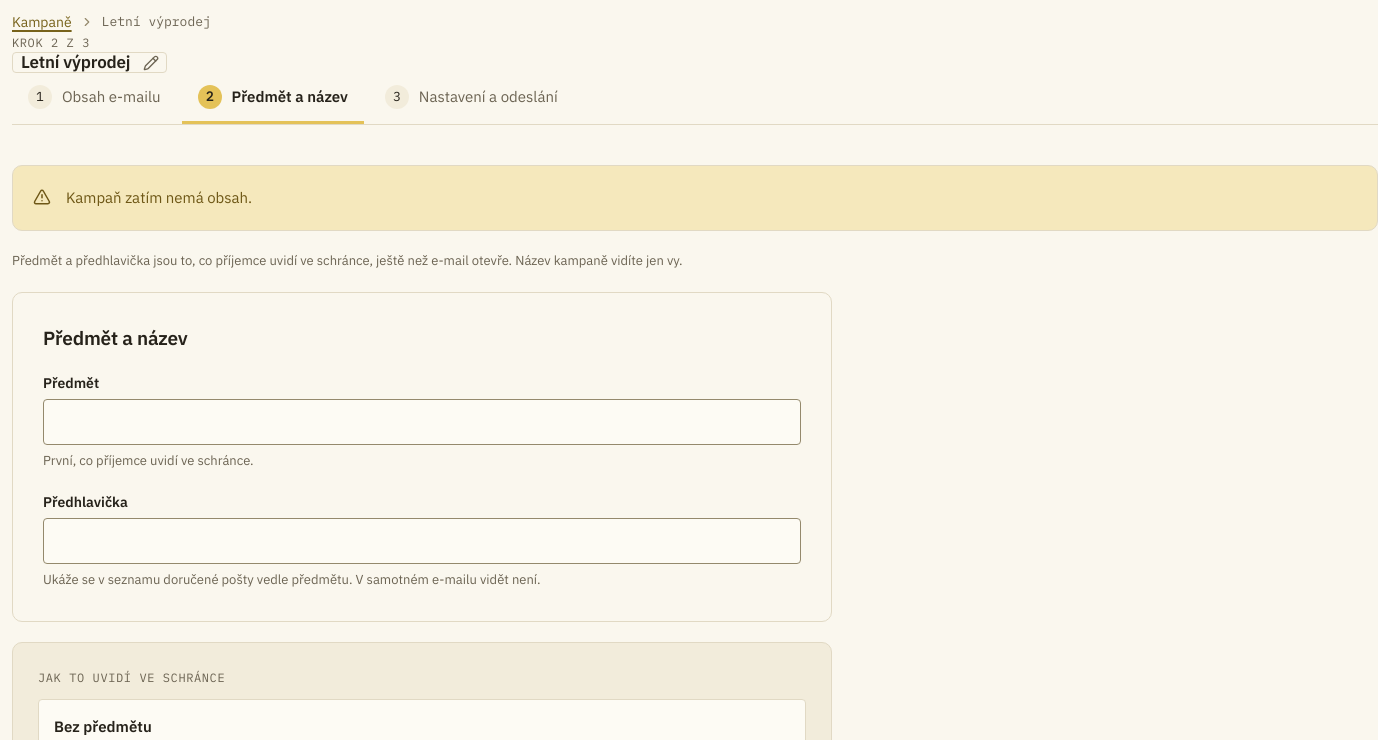
Test: kroky kampaně › pustí mezi kroky oběma směry, kolikrát je potřeba
Click the button with test id "campaign-step-settings".
click(471, 98)  # box [369, 73, 574, 124]
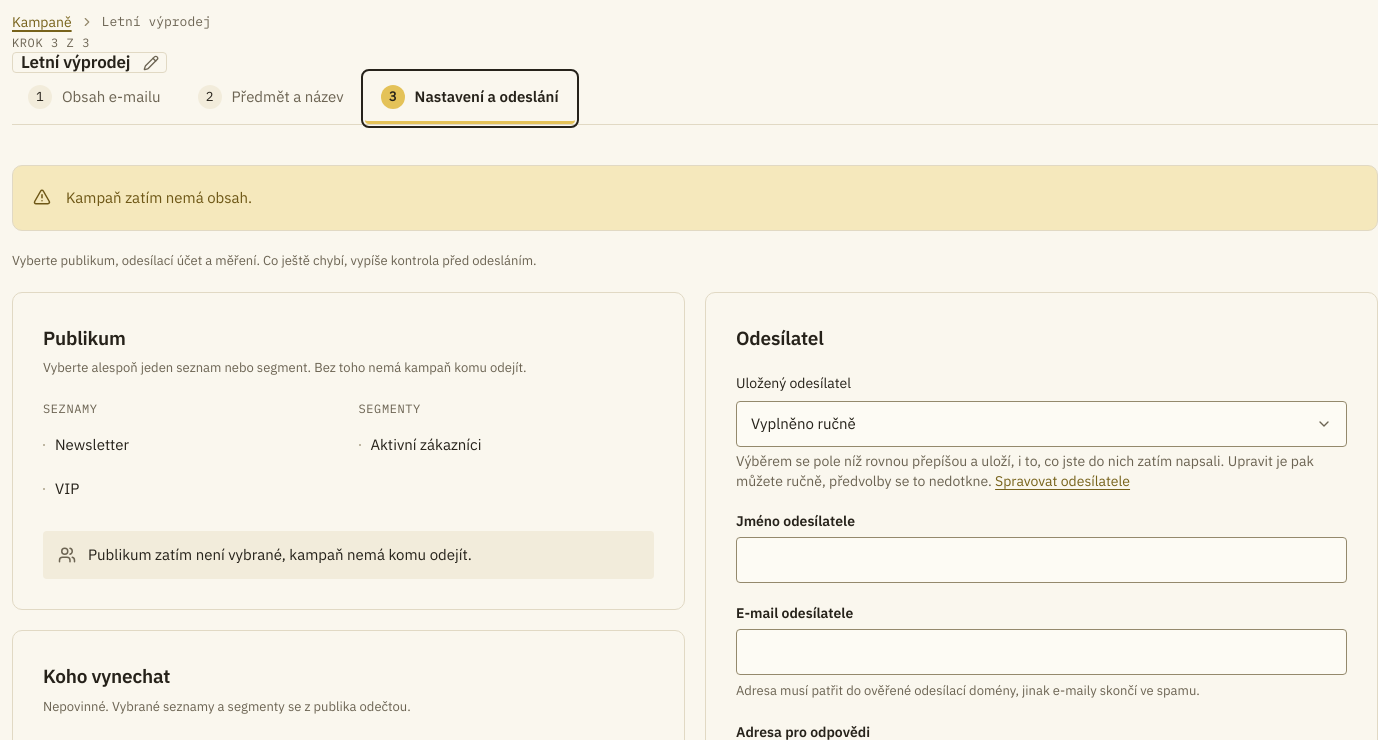
Now the message "Krok 3 z 3" is shown, box [12, 35, 90, 50]
Click the button with test id "campaign-step-basics".
click(271, 98)  # box [182, 73, 360, 124]
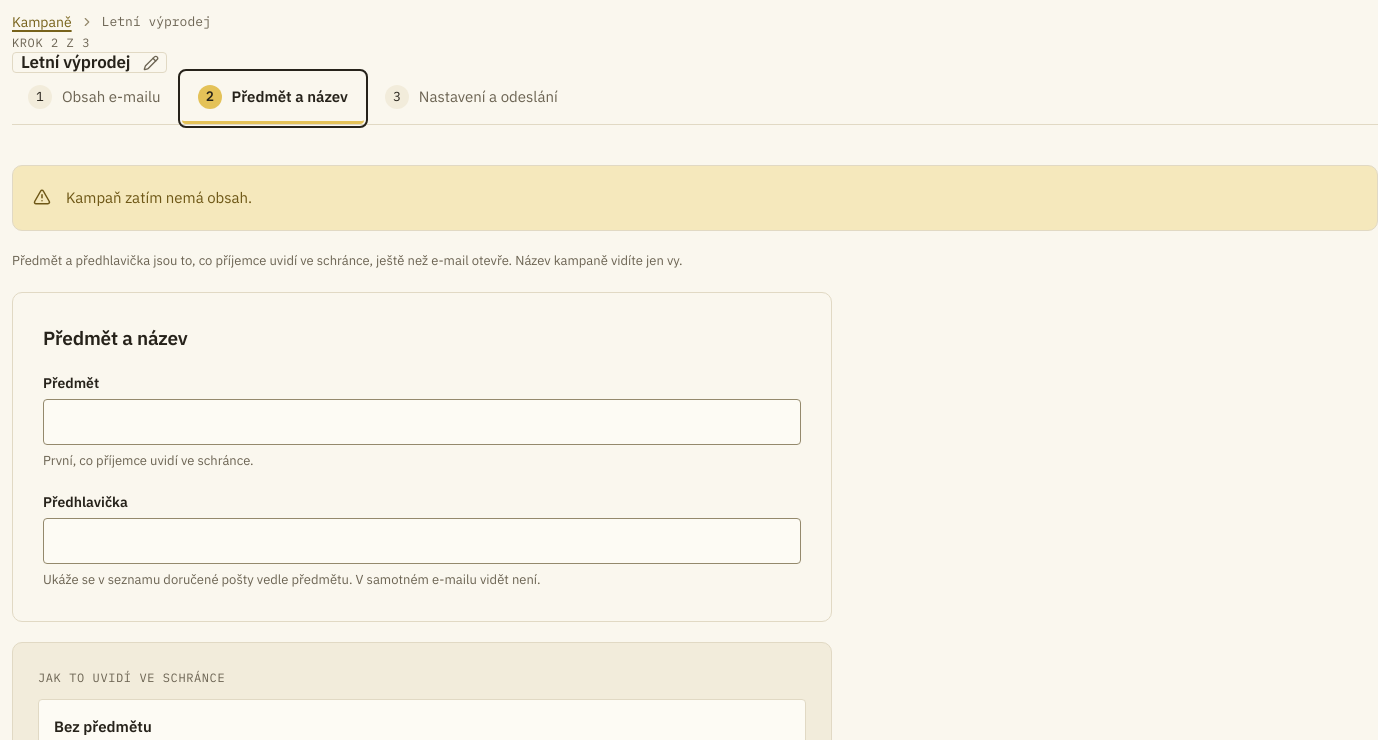
Now the message "Krok 2 z 3" is shown, box [12, 35, 90, 50]
Now the field labelled "Předmět" is shown, box [43, 399, 801, 445]
